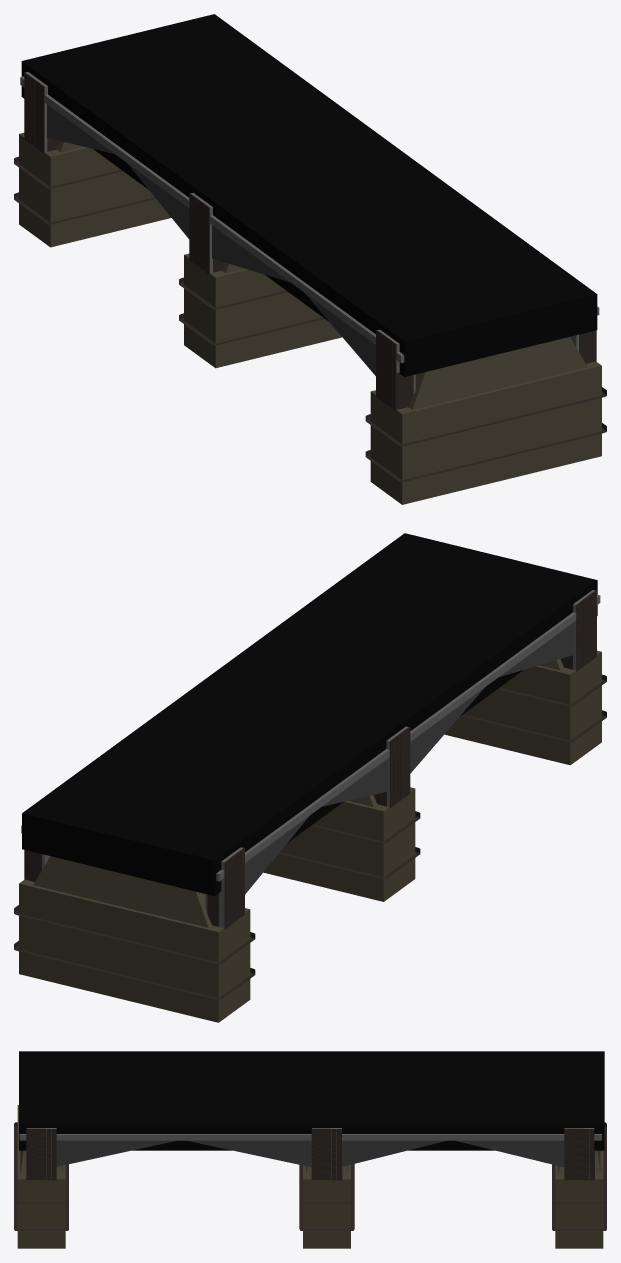
The model's file is beam.glb.
The picture shows the model from 3 angles, top to bottom: view 1: azimuth 30°, elevation 25°; view 2: azimuth 150°, elevation 25°; view 3: azimuth 270°, elevation 25°; orthographic projection. The views are drawn at different scales.
Visible parts, largest first — view 1: Cube; view 2: Cube; view 3: Cube.
Boxes of the visible parts, x1=… form: Cube: x1=14, y1=14, x2=606, y2=504; Cube: x1=14, y1=533, x2=606, y2=1022; Cube: x1=14, y1=1051, x2=606, y2=1248.
Size of the model in its own units: 12.13 by 9.06 by 39.29.
